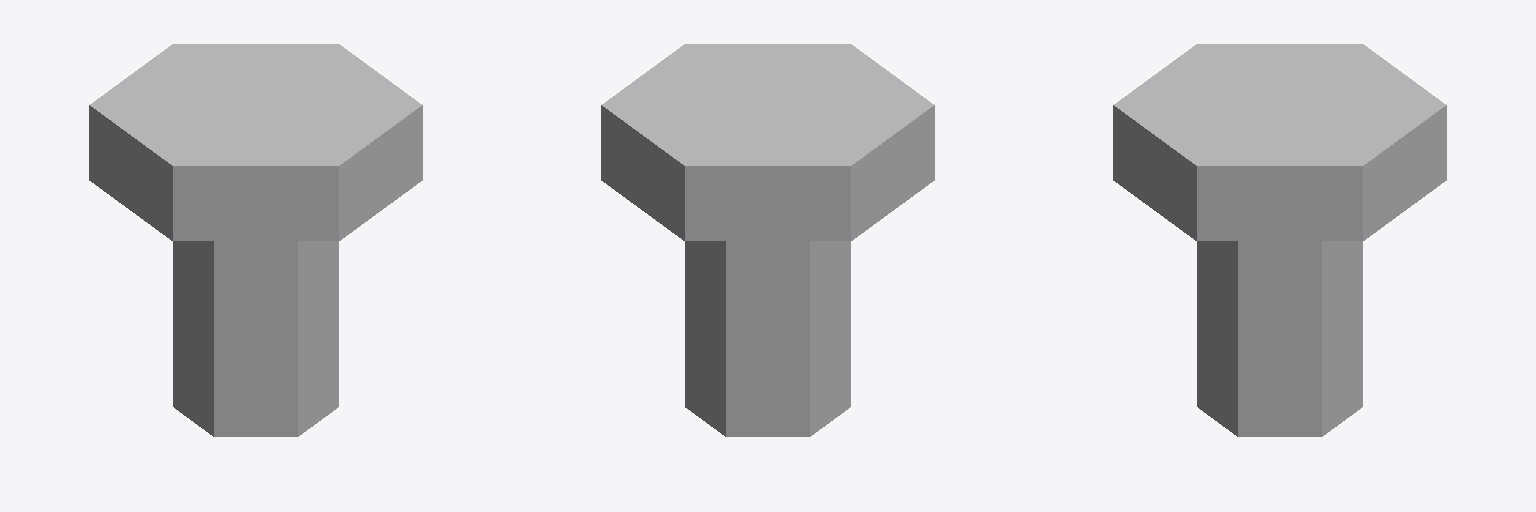
File: bolt.obj
The picture shows the model from 3 angles: view 1: azimuth 30°, elevation 25°; view 2: azimuth 150°, elevation 25°; view 3: azimuth 270°, elevation 25°; orthographic projection.
Parts seen in each view (by area): view 1: bolt; view 2: bolt; view 3: bolt.
Boxes of the visible parts, box(x1,y1,x2,y2) form: bolt: box(89, 44, 422, 436); bolt: box(601, 44, 934, 436); bolt: box(1113, 44, 1446, 436).
Size of the model in its own units: 0.0541 by 0.0625 by 0.0625.